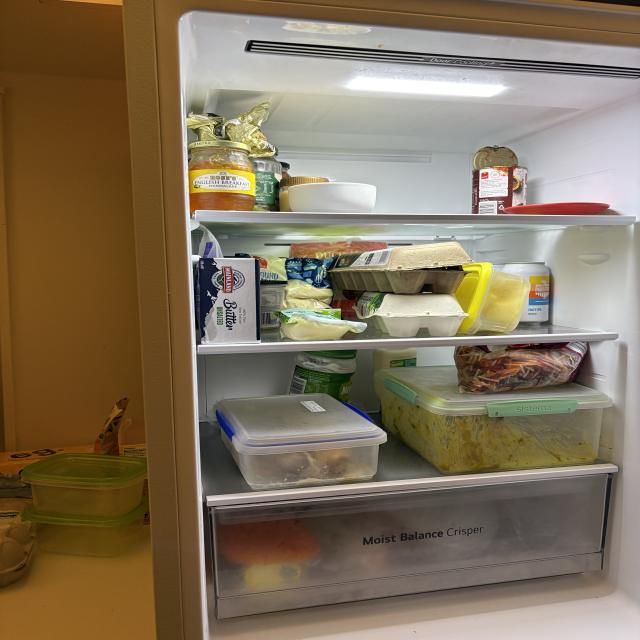Beans: (464, 141, 540, 218)
Bowl: (282, 178, 390, 216)
Cheese: (278, 303, 363, 342)
Eggs: (330, 244, 476, 337)
Energy drink: (498, 261, 558, 328)
Jam: (179, 133, 264, 215)
Pie: (187, 249, 264, 346)
Plastic bottle: (284, 350, 360, 405)
PlasticBox: (378, 361, 614, 469), (199, 386, 384, 490)
Salad: (448, 343, 592, 392)
